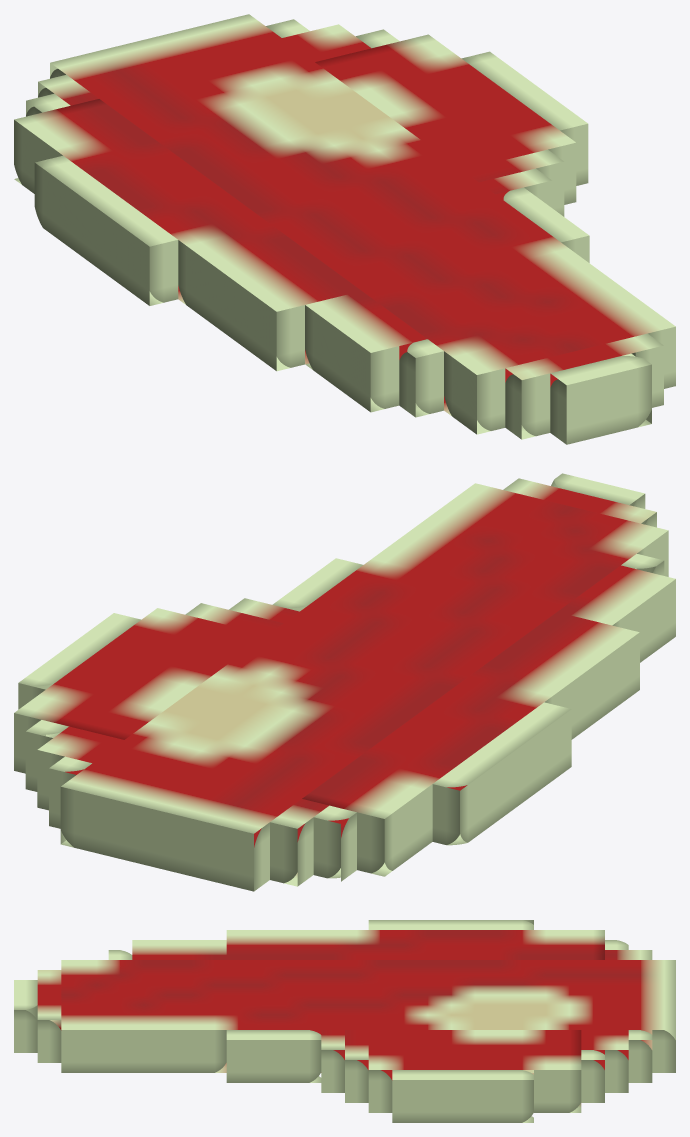
Rendered from RawSteak.dae.
The picture shows the model from 3 angles, top to bottom: view 1: azimuth 30°, elevation 25°; view 2: azimuth 150°, elevation 25°; view 3: azimuth 270°, elevation 25°; orthographic projection. The views are drawn at different scales.
Visible parts, largest first — view 1: RawSteak; view 2: RawSteak; view 3: RawSteak.
Part boxes in pixels (box(x1,y1,x2,y2)): RawSteak: box(14, 14, 675, 444); RawSteak: box(14, 473, 675, 891); RawSteak: box(14, 920, 675, 1122).
Bounding box in the file's own units: 16 × 2 × 28.
1 material, 1 textured.
